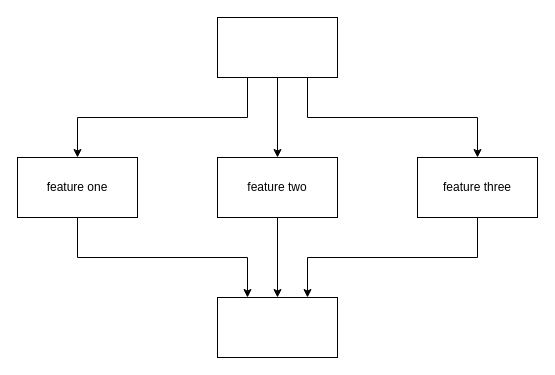
This 555x375 diagram has some shape labels left out. The centre of each missing label's shape, as x and y in pixels:
app: the point at 277,47
common: the point at 277,327
